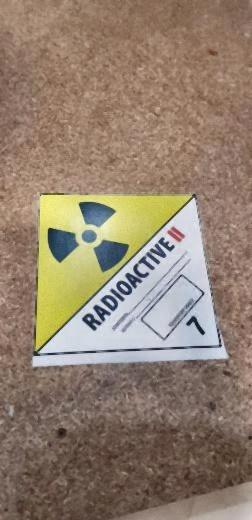radioactive: (27, 192, 228, 367)
